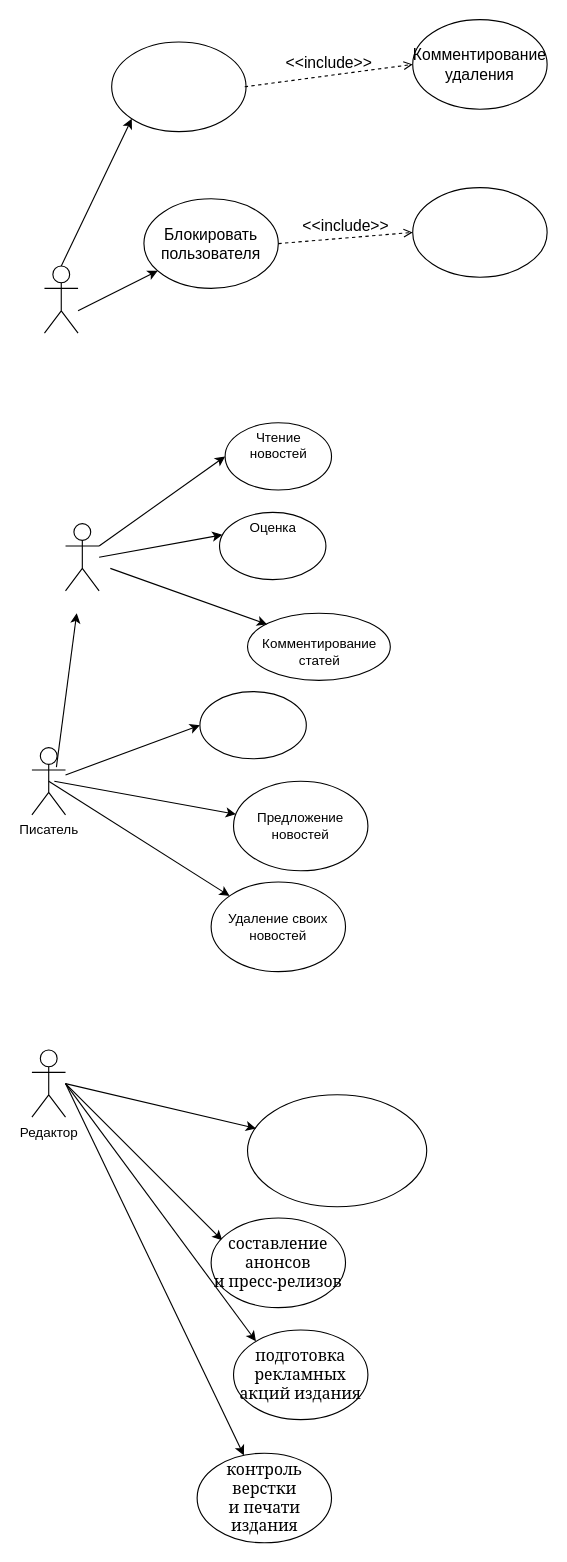
Some shapes in this 567 by 1562 pixel diagram are drawn without their labels. Here are the shapes that lost their labels. From the top down, the centre of each, then its label:
the point at 178,86: Удаление новости
the point at 479,231: Комментирование блокировки
the point at 60,299: Модератор
the point at 81,556: Читатель
the point at 252,724: Поиск новостей
the point at 336,1150: поддержание концепции издания, отбор контента
